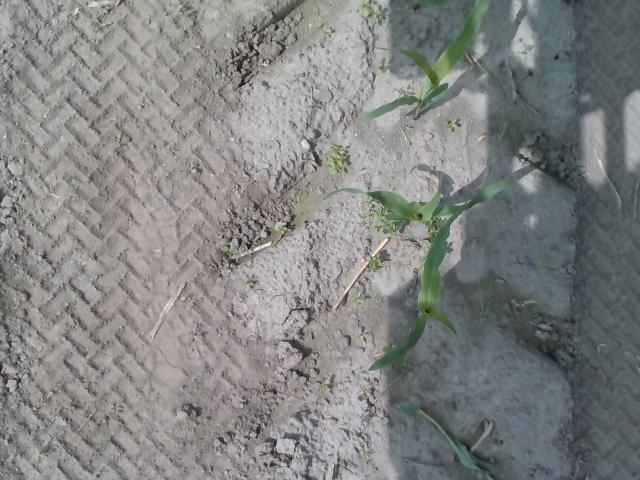Maize: (366, 201, 478, 371), (357, 0, 492, 126), (321, 176, 514, 226), (396, 399, 497, 480), (396, 0, 450, 13)
Weeds: (325, 143, 350, 175), (358, 0, 383, 24), (363, 197, 388, 218), (422, 220, 440, 244), (374, 224, 402, 236), (368, 252, 384, 271), (498, 295, 516, 311), (317, 23, 334, 37), (442, 118, 458, 131), (498, 120, 509, 137), (396, 360, 414, 370), (30, 450, 47, 460), (353, 333, 365, 345), (377, 62, 391, 72), (277, 224, 288, 235), (319, 380, 329, 392), (382, 344, 396, 352), (352, 295, 364, 304), (222, 244, 232, 252), (399, 86, 407, 96), (536, 264, 544, 272)
